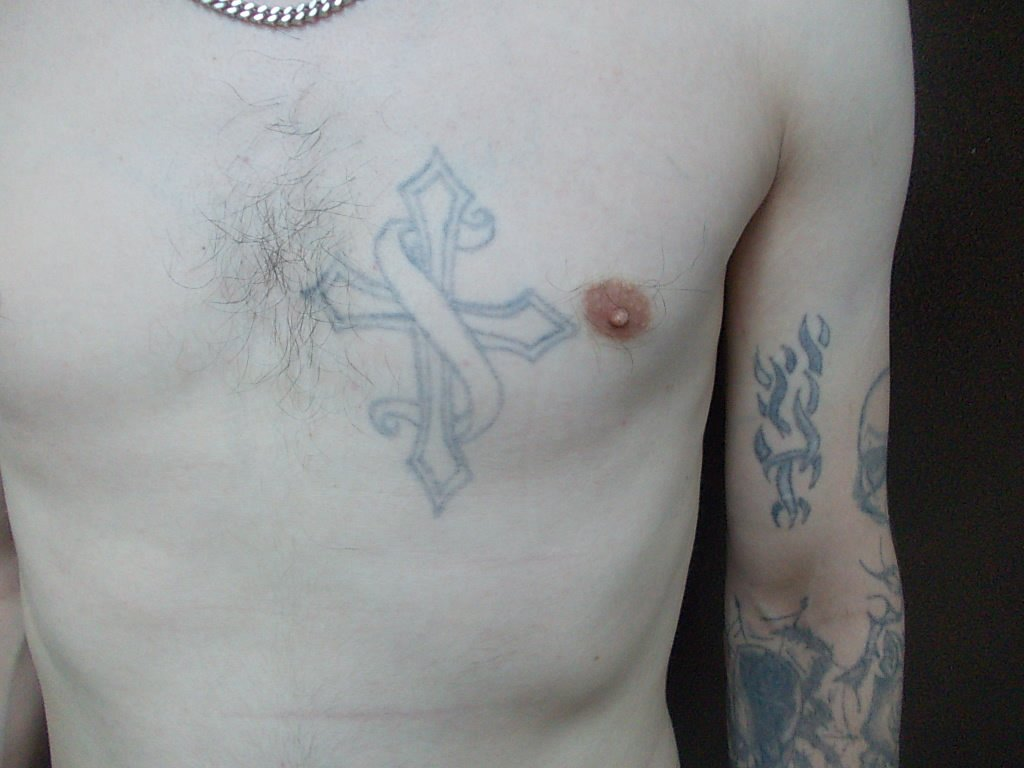tatu9_krest: (297, 142, 585, 532)
